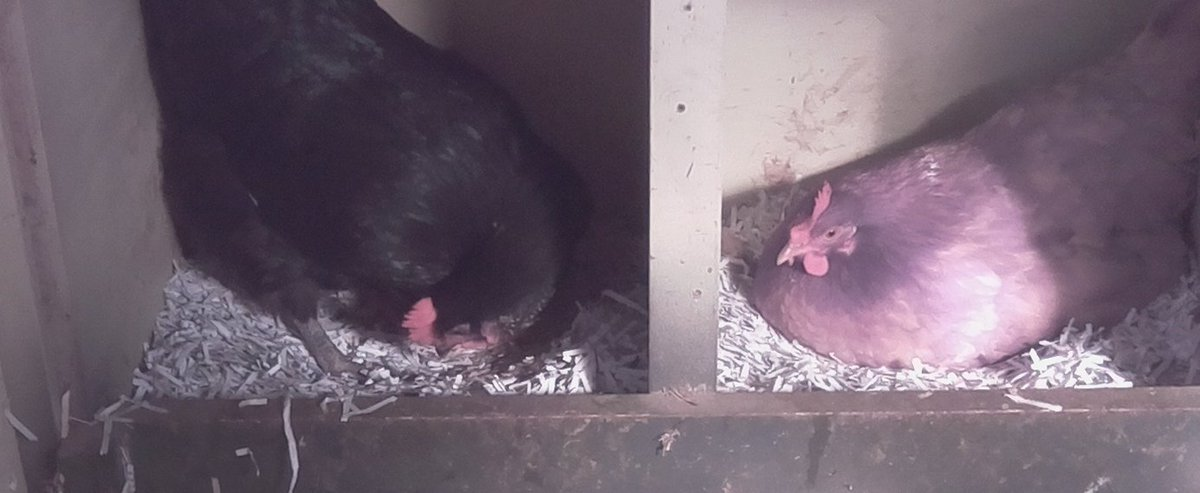hen: (140, 2, 599, 376), (745, 1, 1200, 372)
